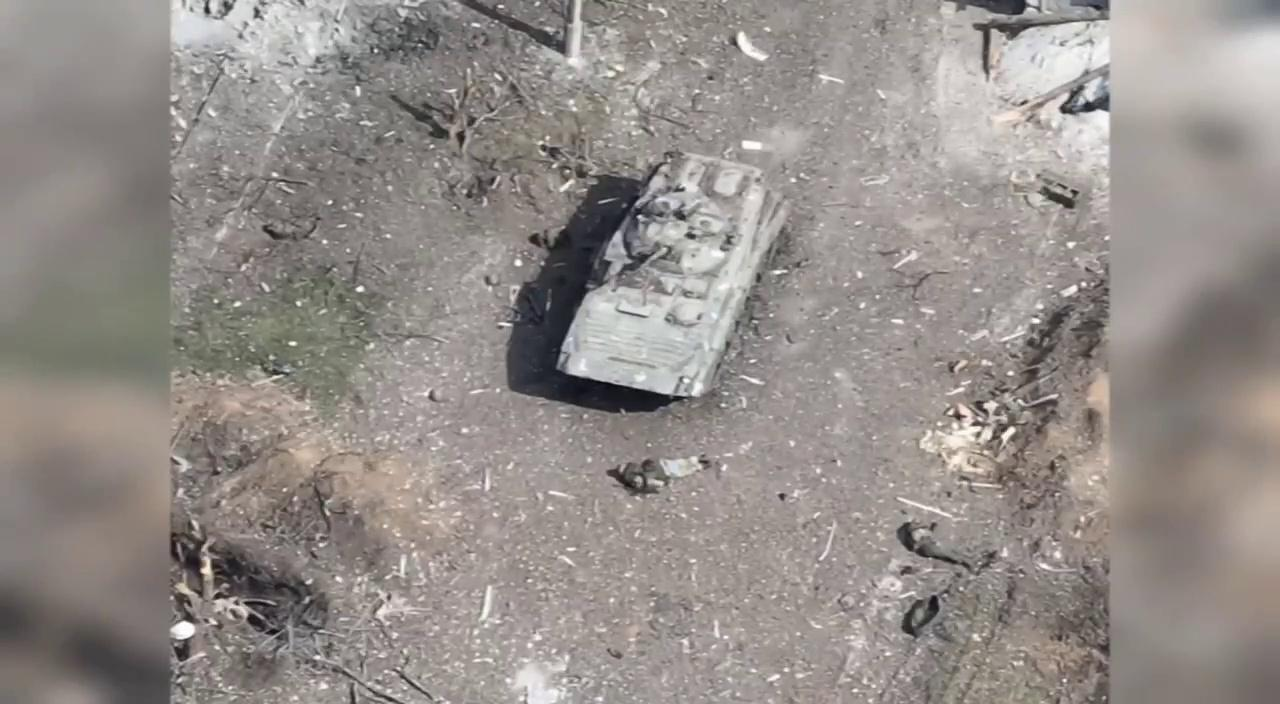person: (902, 514, 992, 576), (613, 446, 711, 494)
vehicle: (559, 152, 800, 400)
